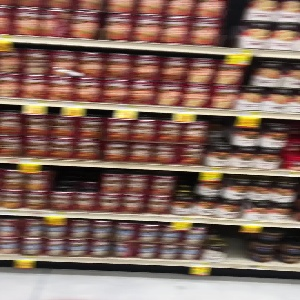void: (228, 224, 248, 267)
